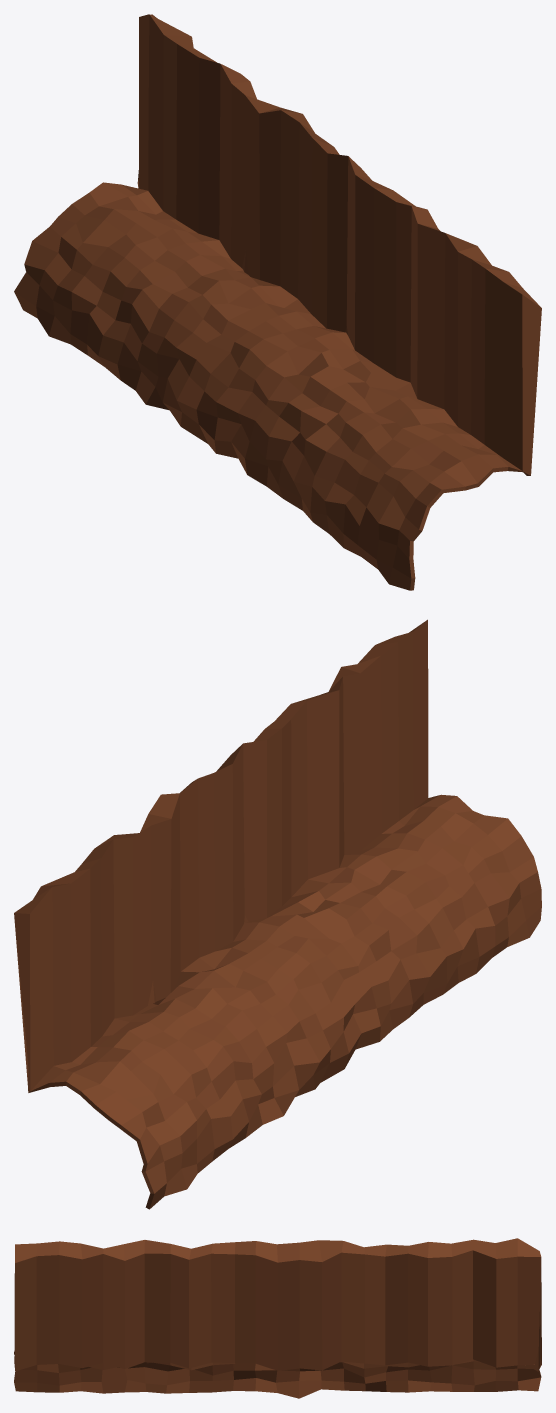
File: Cave.fbx
3 views of the same model, one above another, from view 1: azimuth 30°, elevation 25°; view 2: azimuth 150°, elevation 25°; view 3: azimuth 270°, elevation 25° (orthographic). The views are drawn at different scales.
Parts seen in each view (by area): view 1: Circle; view 2: Circle; view 3: Circle.
Boxes of the visible parts, x1=… form: Circle: x1=14, y1=14, x2=541, y2=590; Circle: x1=14, y1=619, x2=541, y2=1209; Circle: x1=14, y1=1238, x2=541, y2=1398.
Size of the model in its own units: 183 by 345 by 851.
